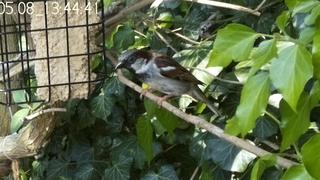sparrow: (115, 49, 223, 117)
